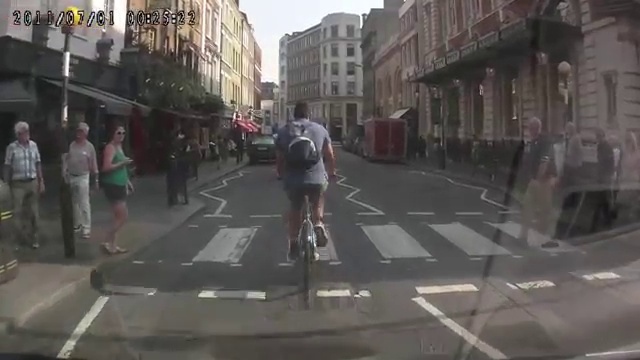cyclist_back: (279, 102, 335, 312)
